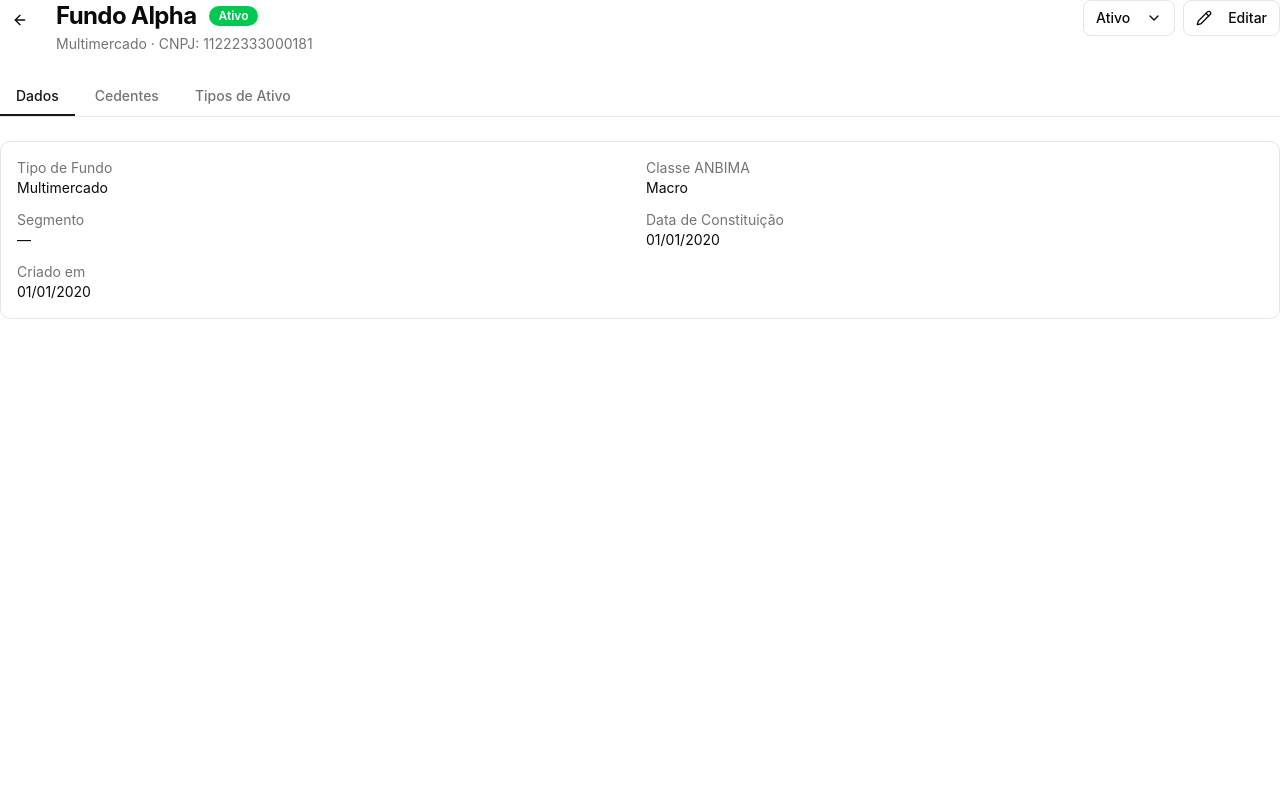
Test: FundoDetailPage › closes edit dialog when cancel button in form clicked
Click the button with aria-label "editar fundo" at coordinates (1232, 18), box [1183, 0, 1279, 36]
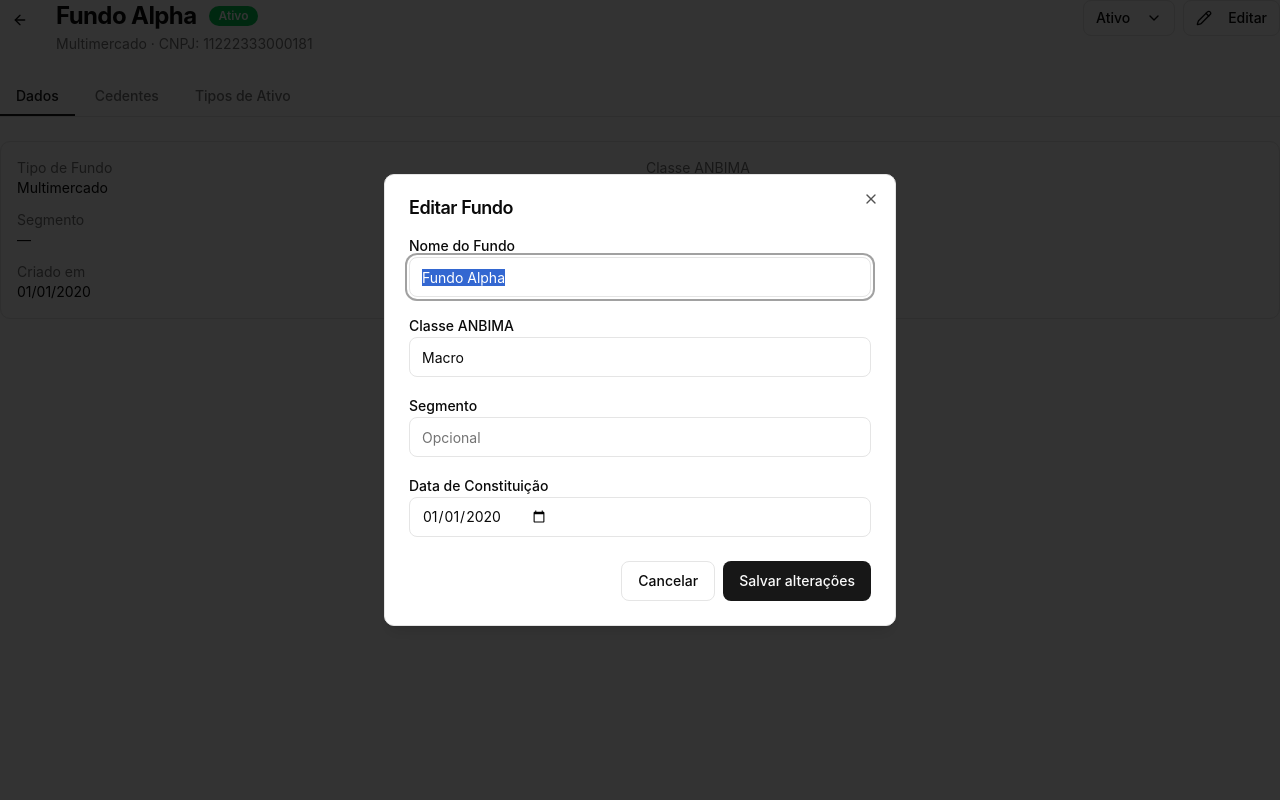
Expected: the dialog is shown, [384, 174, 896, 626]
Click the button "Cancelar" at coordinates (668, 581), box [621, 561, 715, 601]
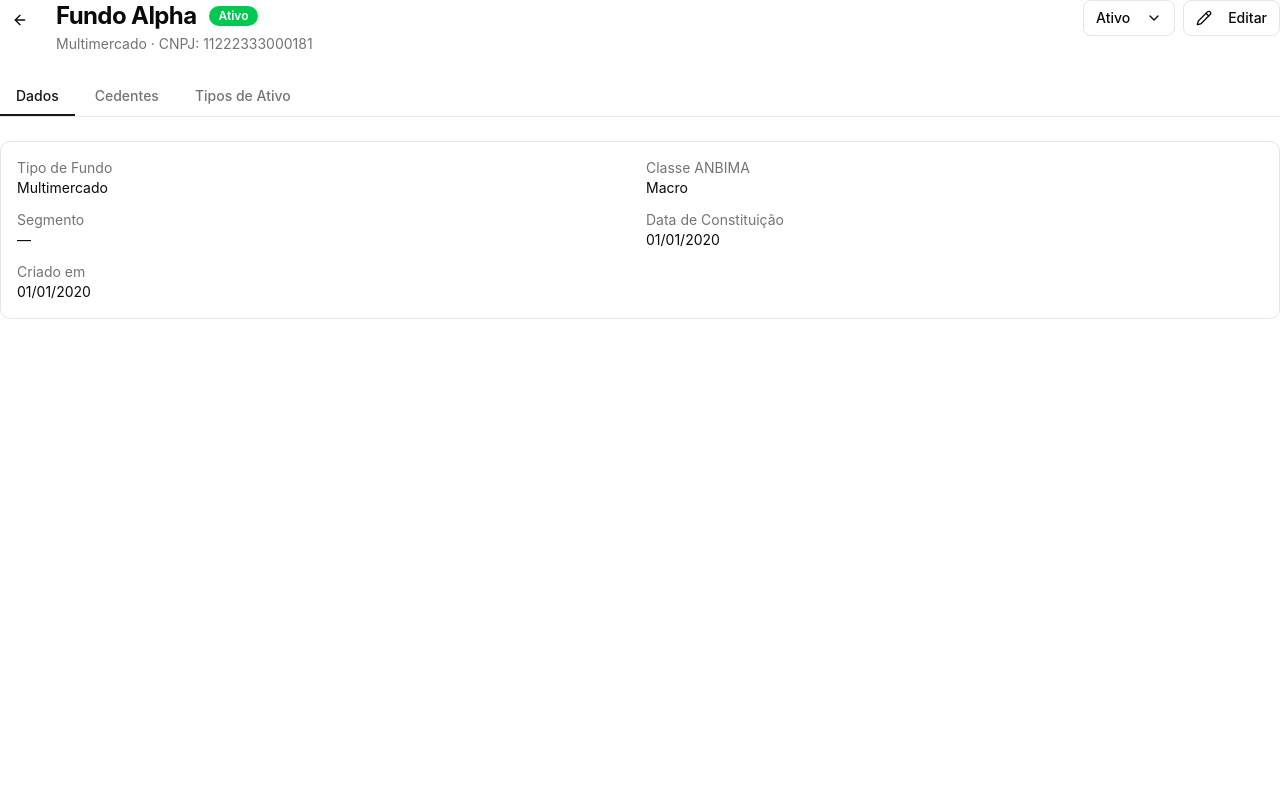
Expected: the dialog is gone
